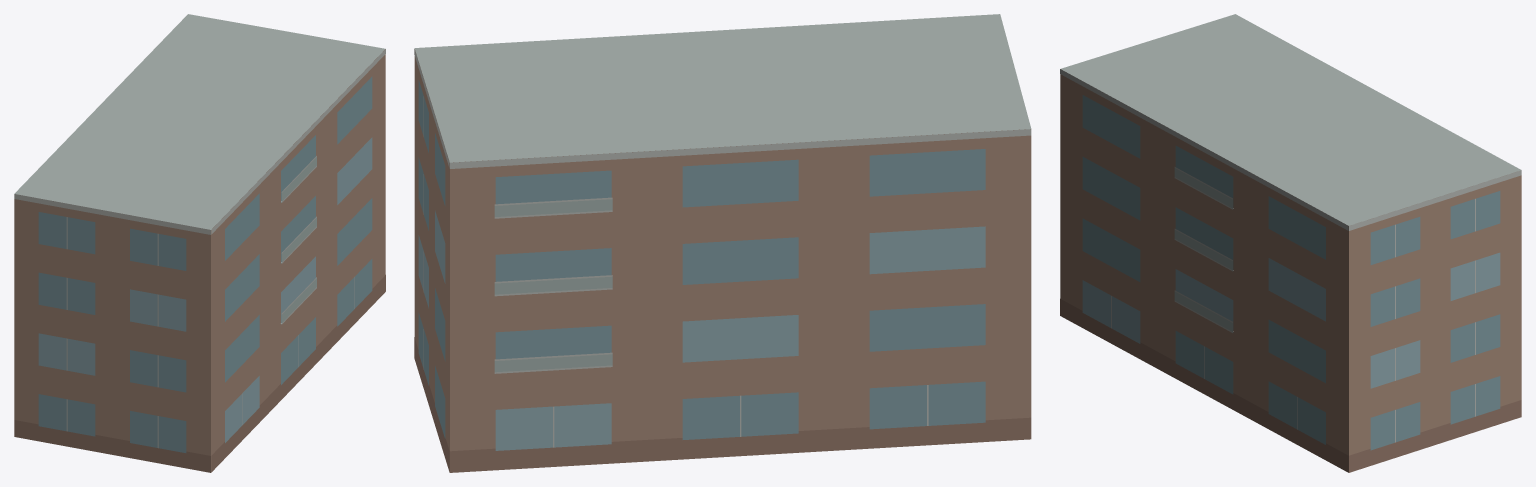
The model's file is survey-upis-32726639.glb.
3 renders of one model, left to right at view 1: azimuth 30°, elevation 25°; view 2: azimuth 150°, elevation 25°; view 3: azimuth 270°, elevation 25°, orthographic. The views are drawn at different scales.
Parts seen in each view (by area): view 1: survey-upis-32726639.tmp; view 2: survey-upis-32726639.tmp; view 3: survey-upis-32726639.tmp.
Boxes of the visible parts, x1,y1,x2,y2 form: survey-upis-32726639.tmp: (14, 14, 385, 472); survey-upis-32726639.tmp: (414, 14, 1031, 472); survey-upis-32726639.tmp: (1060, 14, 1521, 472).
Bounding box in the file's own units: 21.55 × 11.7 × 19.82.
